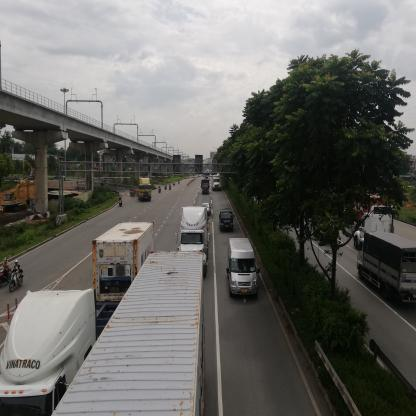car: (228, 238, 259, 305)
container: (8, 235, 119, 411), (128, 253, 211, 416), (179, 208, 209, 270), (139, 179, 154, 206), (213, 177, 222, 192)
motorbike: (9, 262, 25, 292), (3, 258, 12, 288), (120, 198, 124, 207), (159, 187, 162, 197), (169, 184, 172, 192), (164, 185, 167, 192)
truck: (221, 207, 235, 232), (201, 181, 212, 196)
